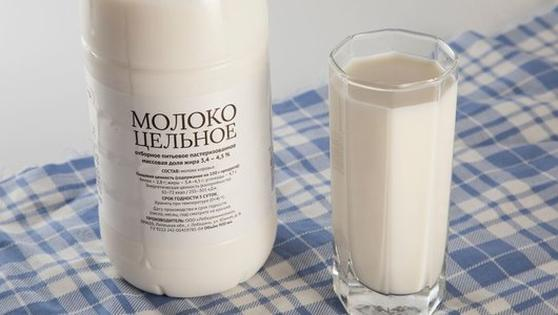milk: (326, 33, 455, 309)
